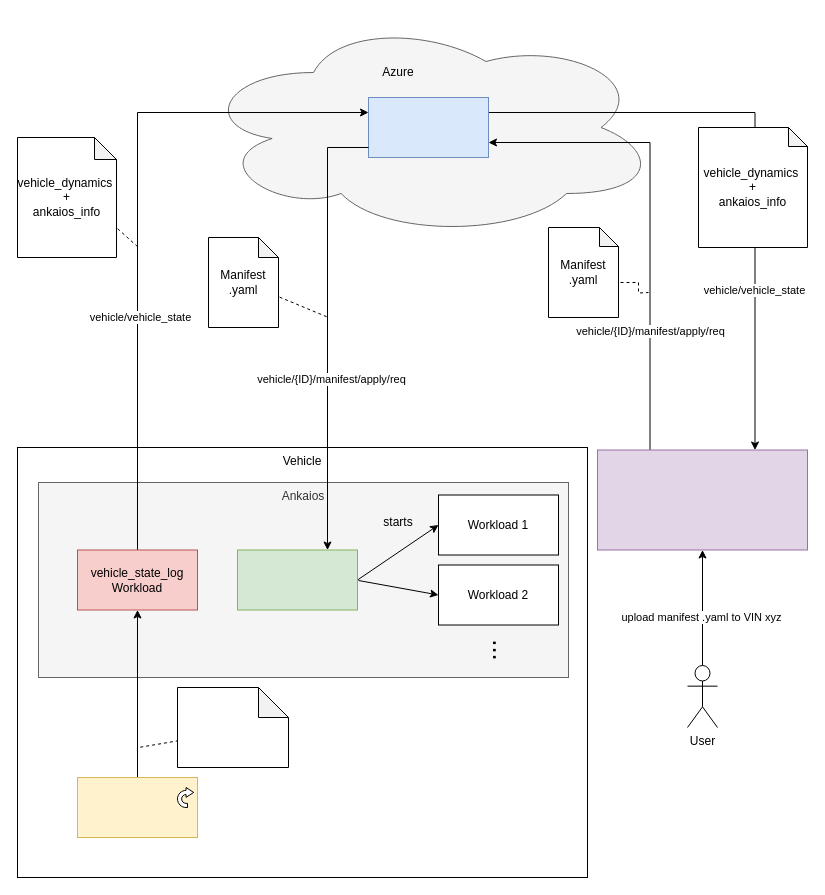
The diagram is 825 pixels wide and 895 high, and some of its shapes have lost their labels. The shapes that lost their labels are listed below. From the top down, each one's centre as x and y in pixels, then its label:
the point at 428,127: Mosquitto MQTT Broker
the point at 702,499: Ankaios Deployment Management Server (UI)
the point at 297,579: fleet_manager Workload
the point at 232,727: vehicle_dynamics
the point at 137,807: eCal runtime
